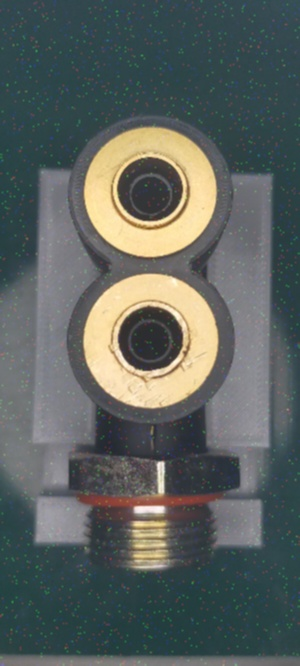craze: (147, 425, 159, 461)
